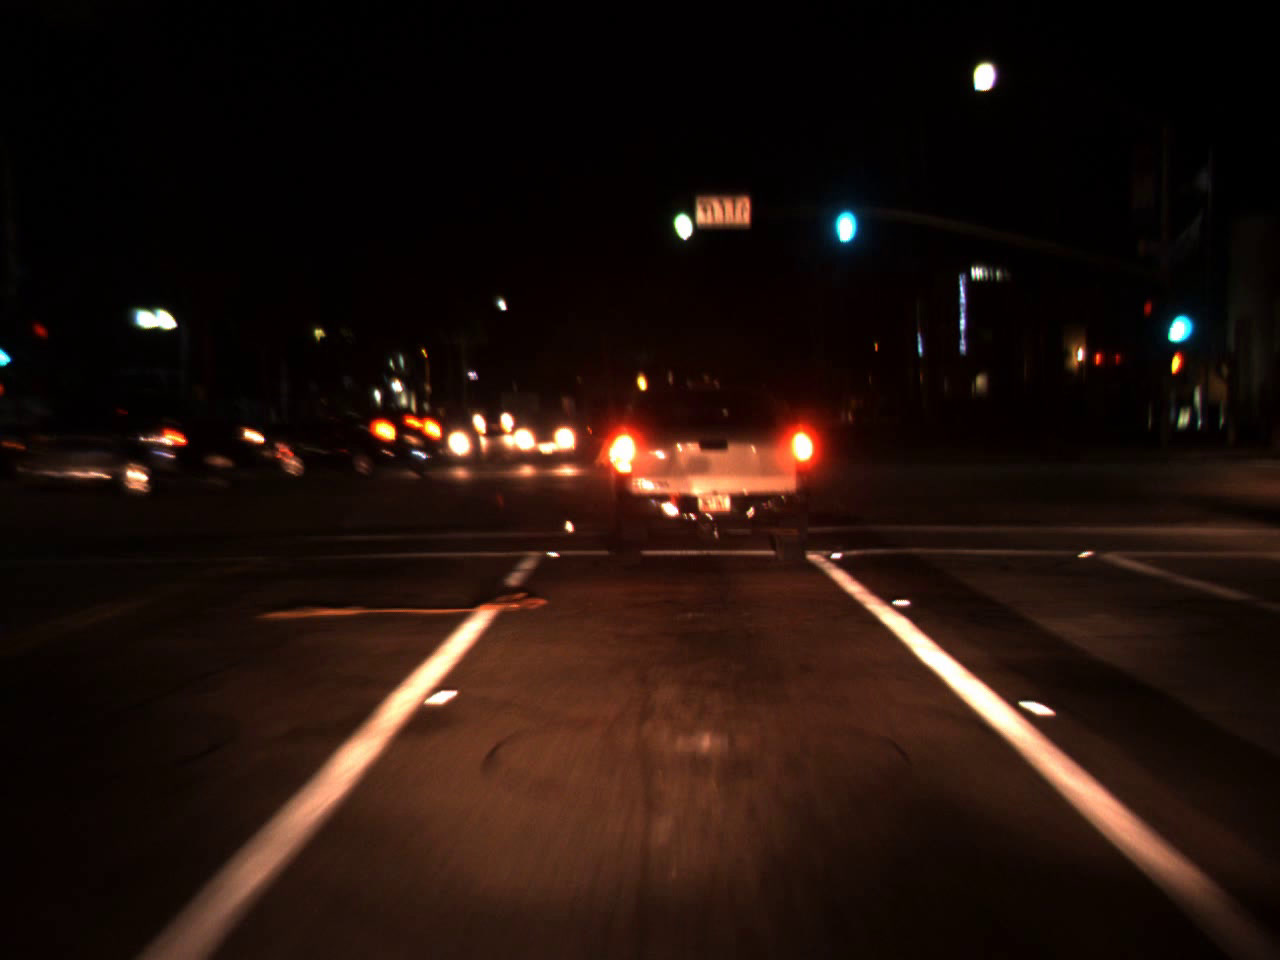go: (826, 174, 862, 252), (668, 179, 696, 251), (1159, 297, 1191, 351), (0, 327, 13, 372)
